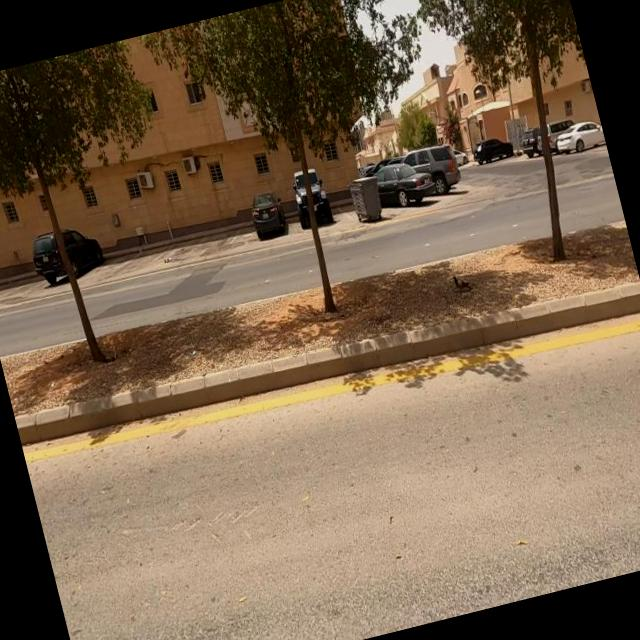debris: (137, 234, 195, 283)
